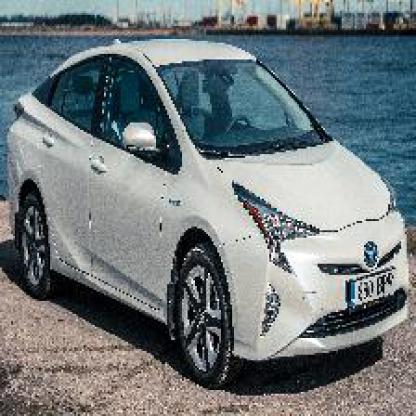not_emergency: (13, 37, 403, 379)
